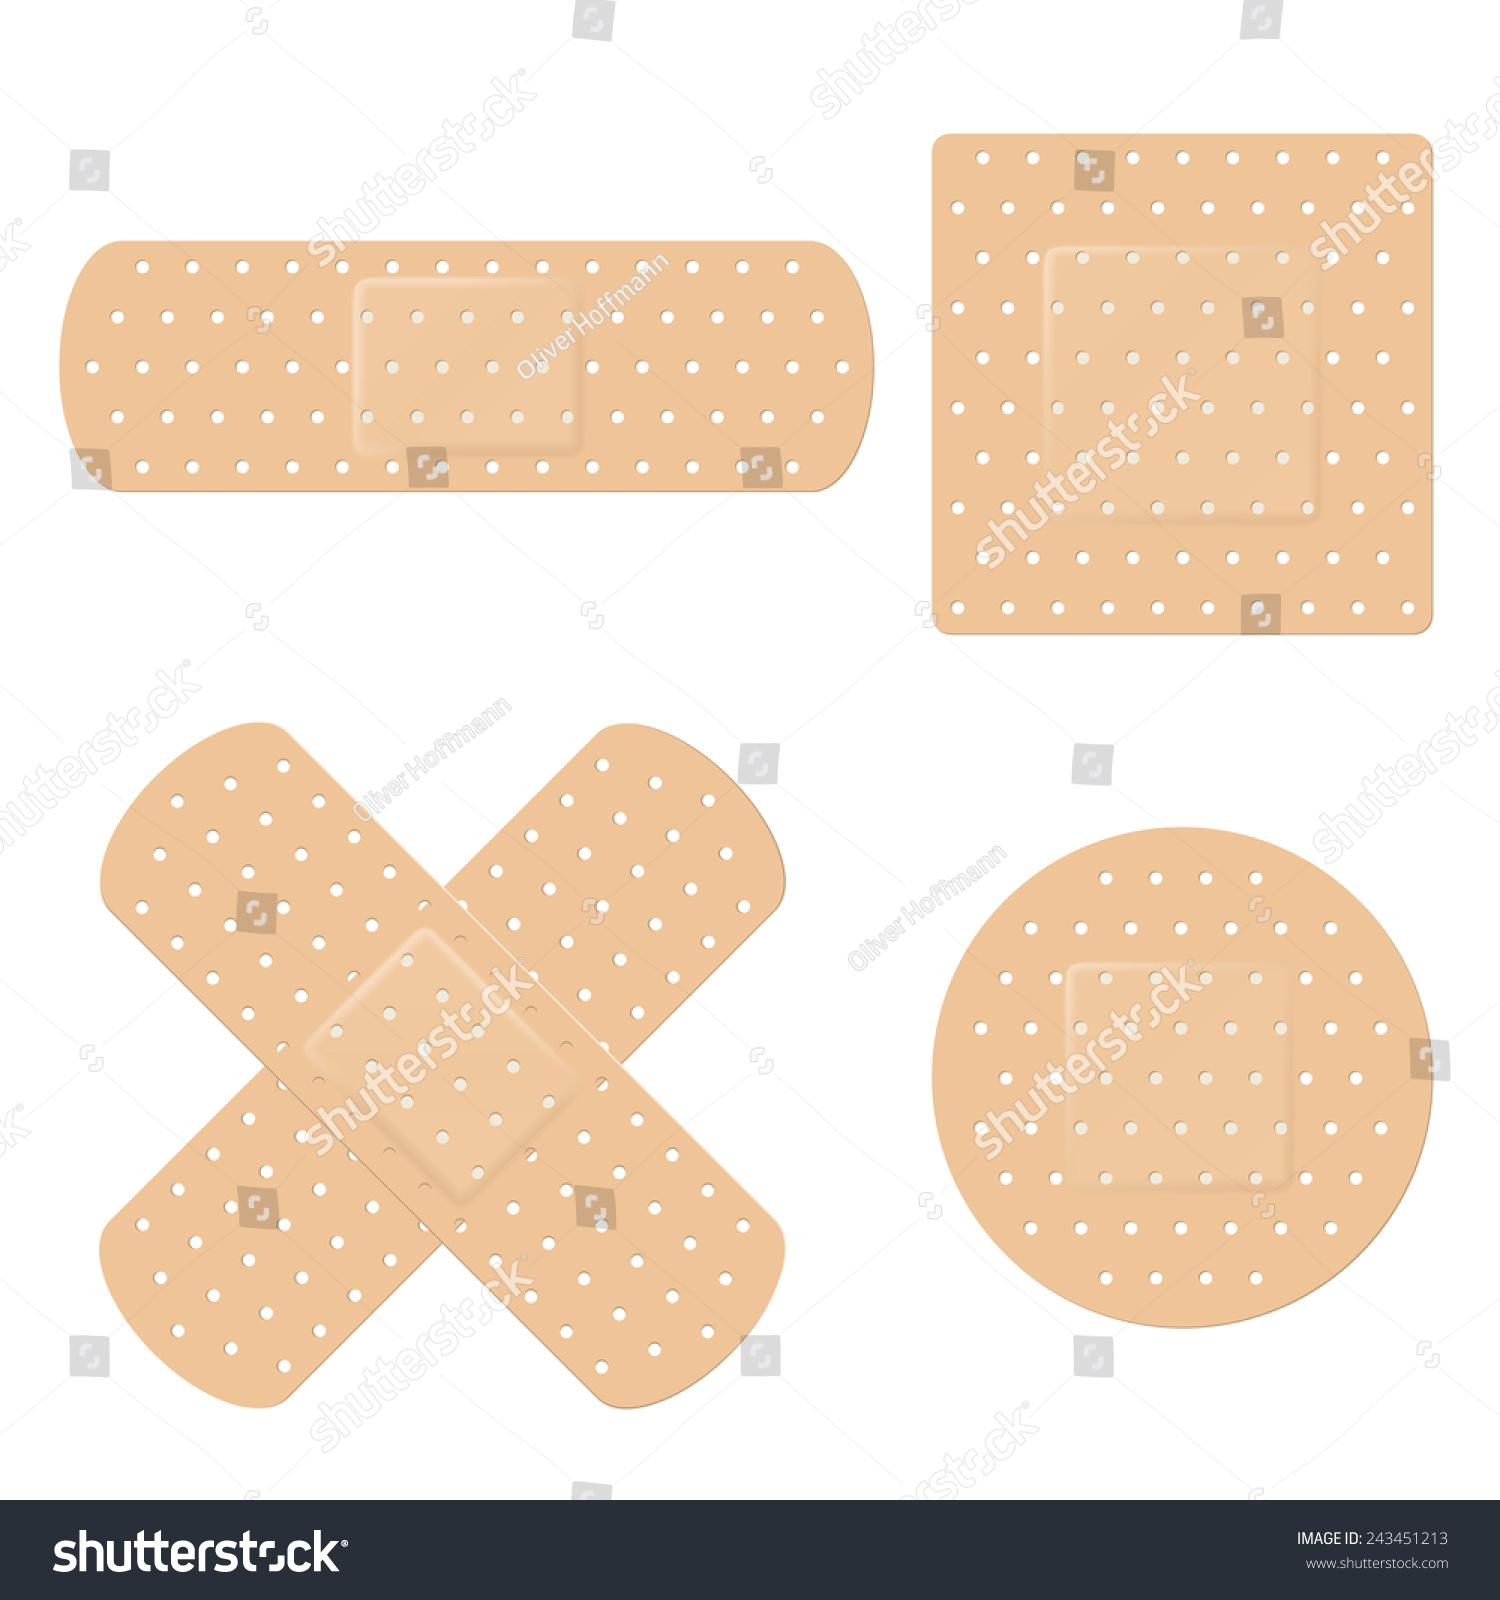bandage: (100, 718, 792, 1411), (930, 820, 1431, 1334), (937, 137, 1434, 640), (63, 244, 871, 484)
